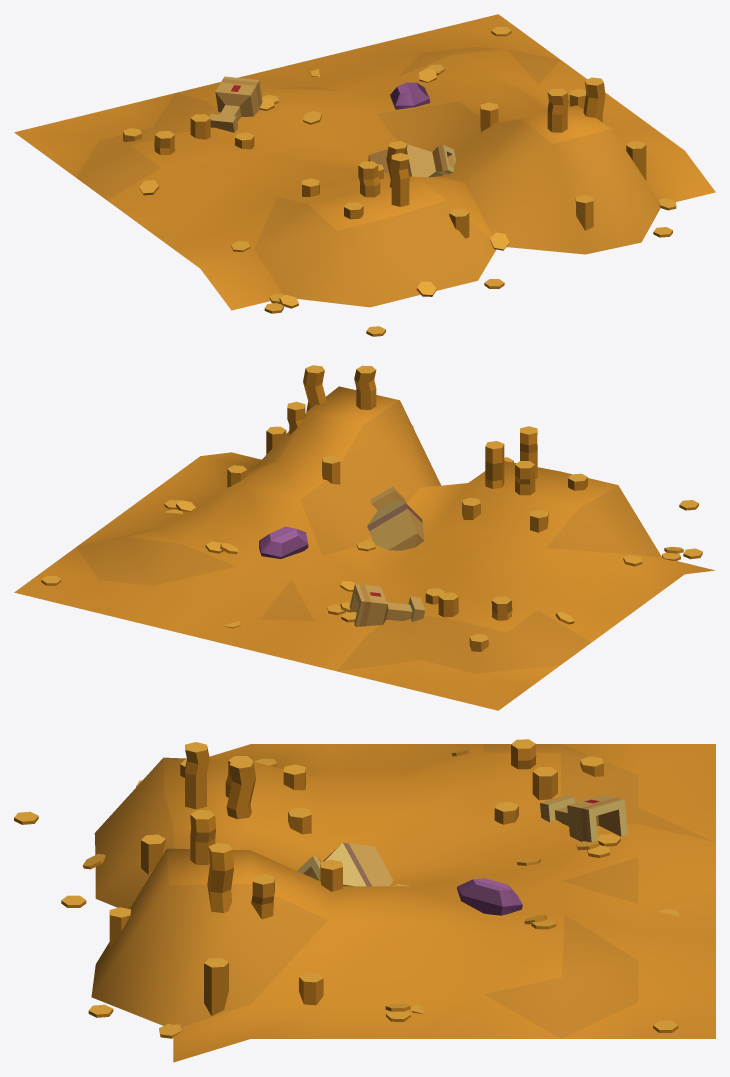
Rendered from ST_Env_Gold_Edge_02.fbx.
3 renders of one model, top to bottom at view 1: azimuth 30°, elevation 25°; view 2: azimuth 150°, elevation 25°; view 3: azimuth 270°, elevation 25°, orthographic. The views are drawn at different scales.
Parts seen in each view (by area): view 1: ST_Env_Gold_Edge_02; view 2: ST_Env_Gold_Edge_02; view 3: ST_Env_Gold_Edge_02.
Boxes of the visible parts, left/top/right/bottom form: ST_Env_Gold_Edge_02: left=14, top=14, right=715, bottom=336; ST_Env_Gold_Edge_02: left=14, top=365, right=715, bottom=710; ST_Env_Gold_Edge_02: left=14, top=739, right=715, bottom=1062.
Bounding box in the file's own units: 5 × 1.36 × 5.03.
